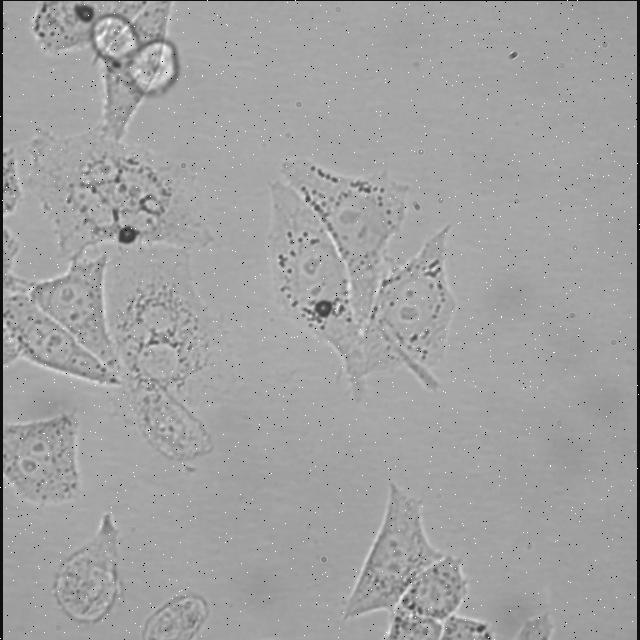microbeads: (114, 225, 140, 245), (312, 297, 336, 317)
